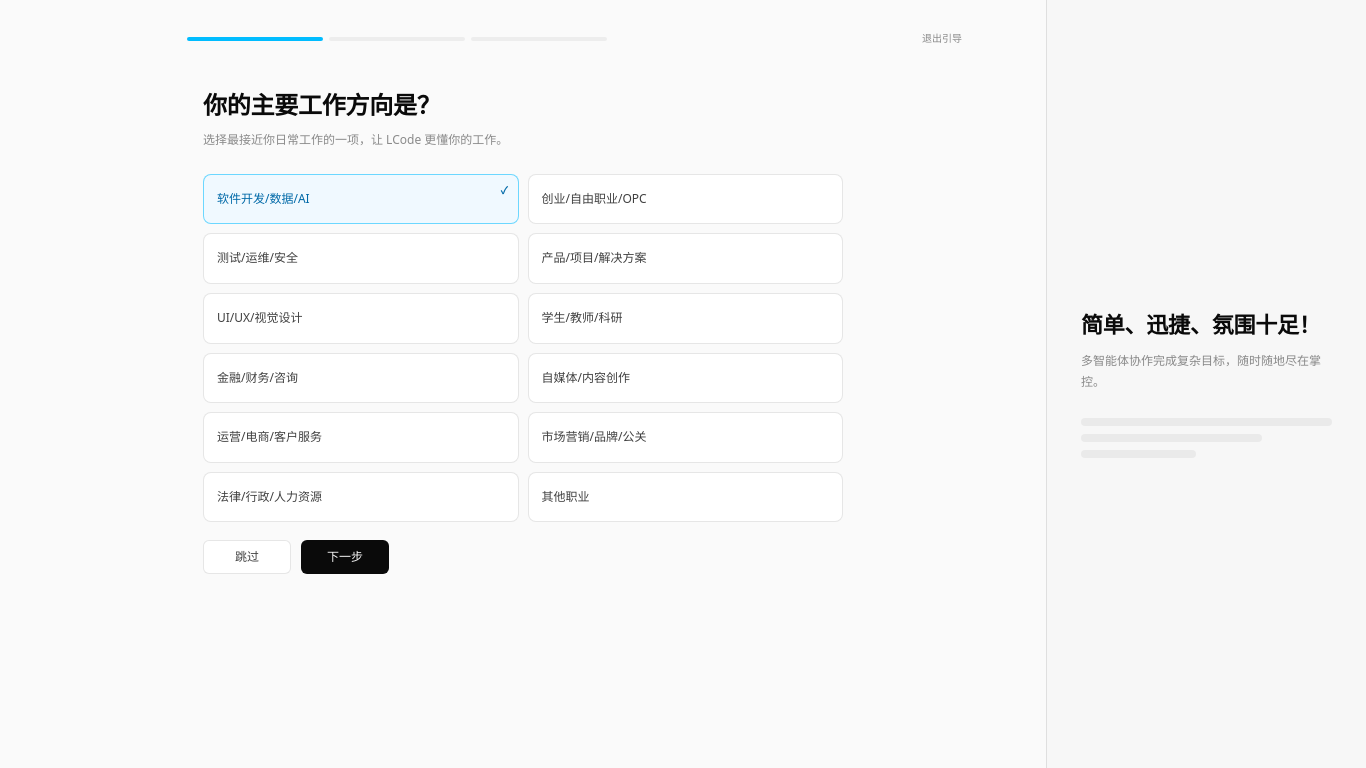
it: OnboardingView · 新手引导 3 步（B7） › 「退出引导」回首页（不写完成标记）
The image size is (1366, 768).
Click the button with test id "onboarding-exit" at (942, 39), box [912,25,972,53]
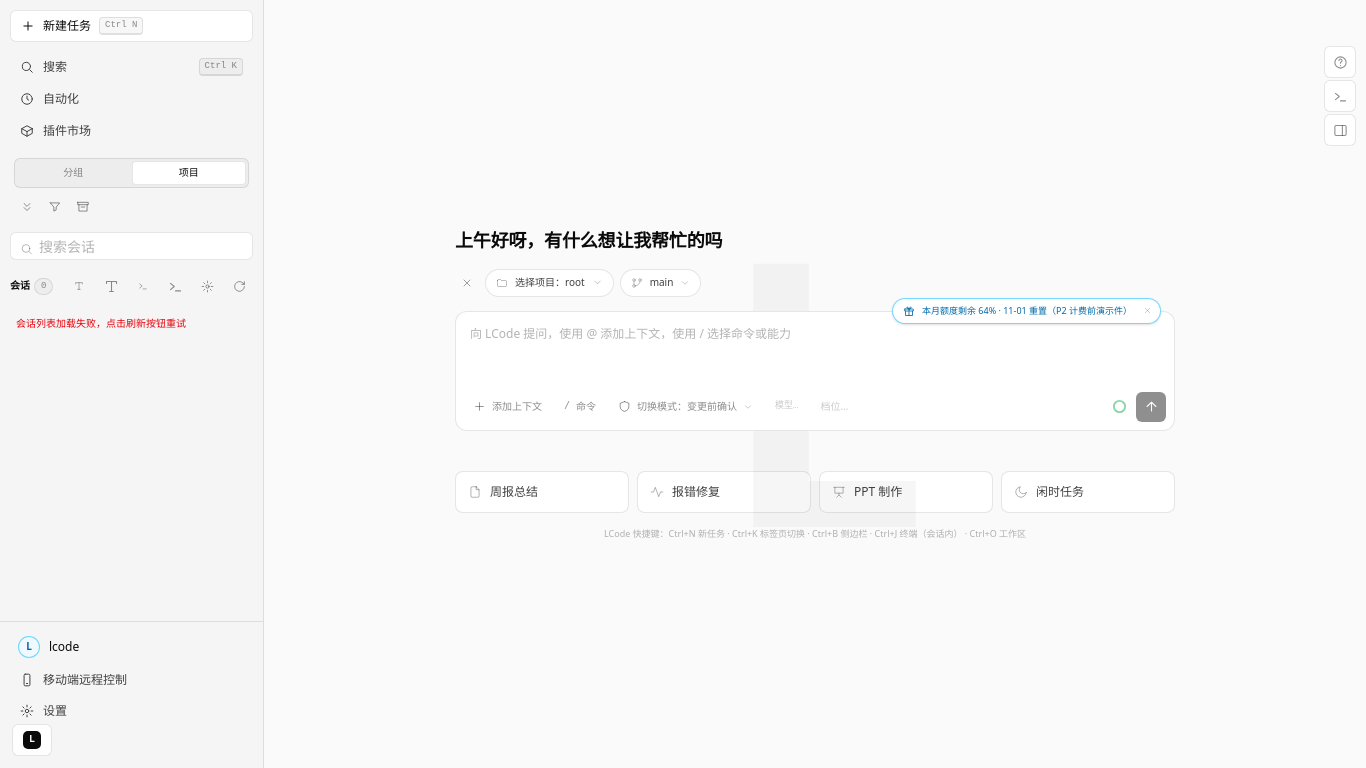
Check: the button with test id "home-greet" is shown, box [455,227,1175,255]
